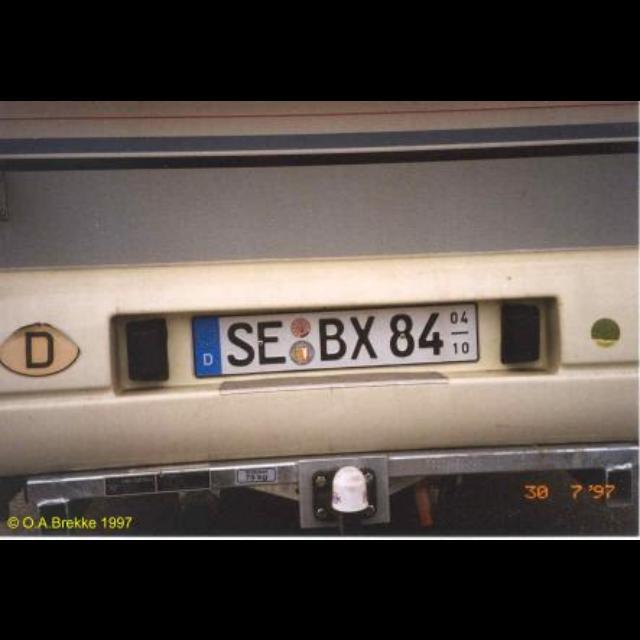license-plates: (193, 304, 479, 378)
